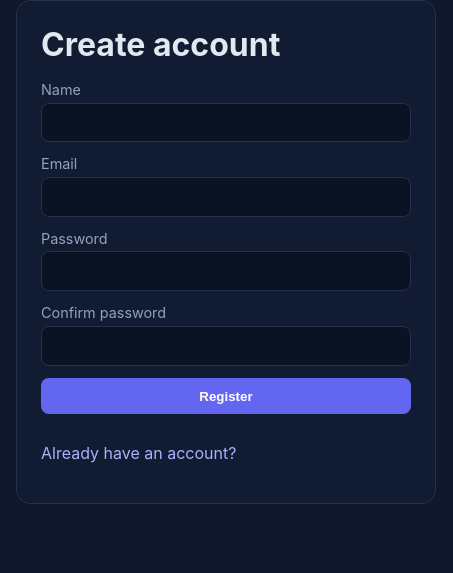
Test: AuthForm › blocks registration when passwords do not match
Type "Demo" into the field labelled "Name" at point(226, 122), box x1=41 y1=103 x2=411 y2=142
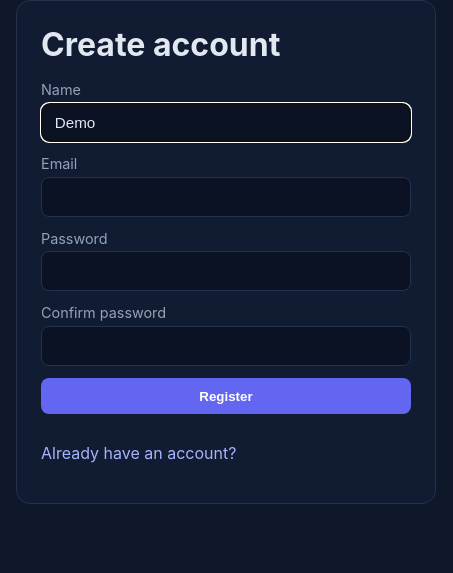
Type "demo@example.com" into the field labelled "Email" at point(226, 197), box x1=41 y1=177 x2=411 y2=217
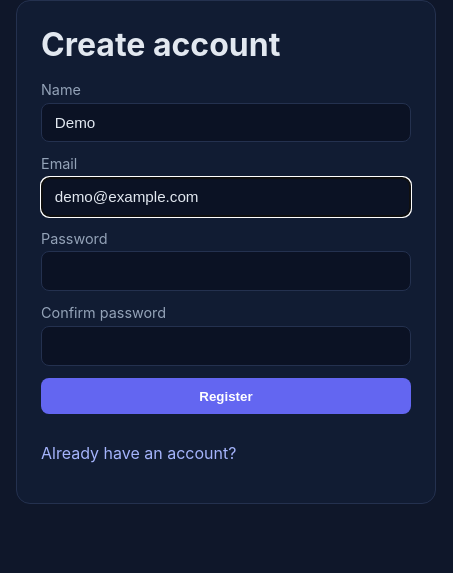
Type "password-1" into the password field labelled "Password" at point(226, 271), box x1=41 y1=251 x2=411 y2=291
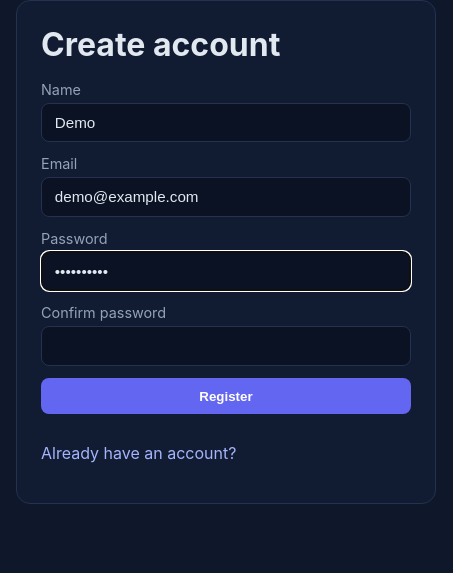
Type "password-2" into the password field labelled "Confirm password" at point(226, 346), box x1=41 y1=326 x2=411 y2=366
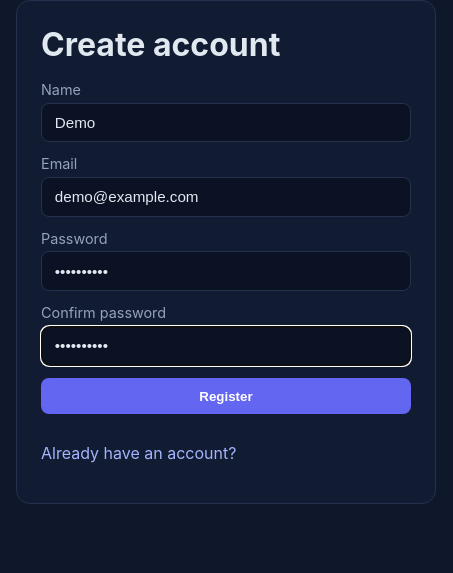
Click the button "Register" at point(226, 396), box x1=41 y1=378 x2=411 y2=414
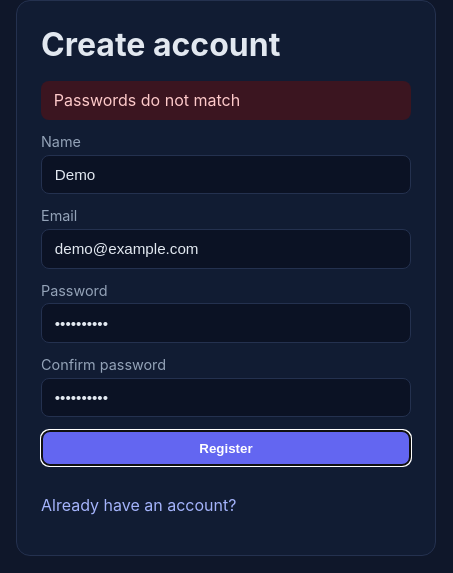
Expected: the message reads "Passwords do not match", x1=54 y1=90 x2=240 y2=110
